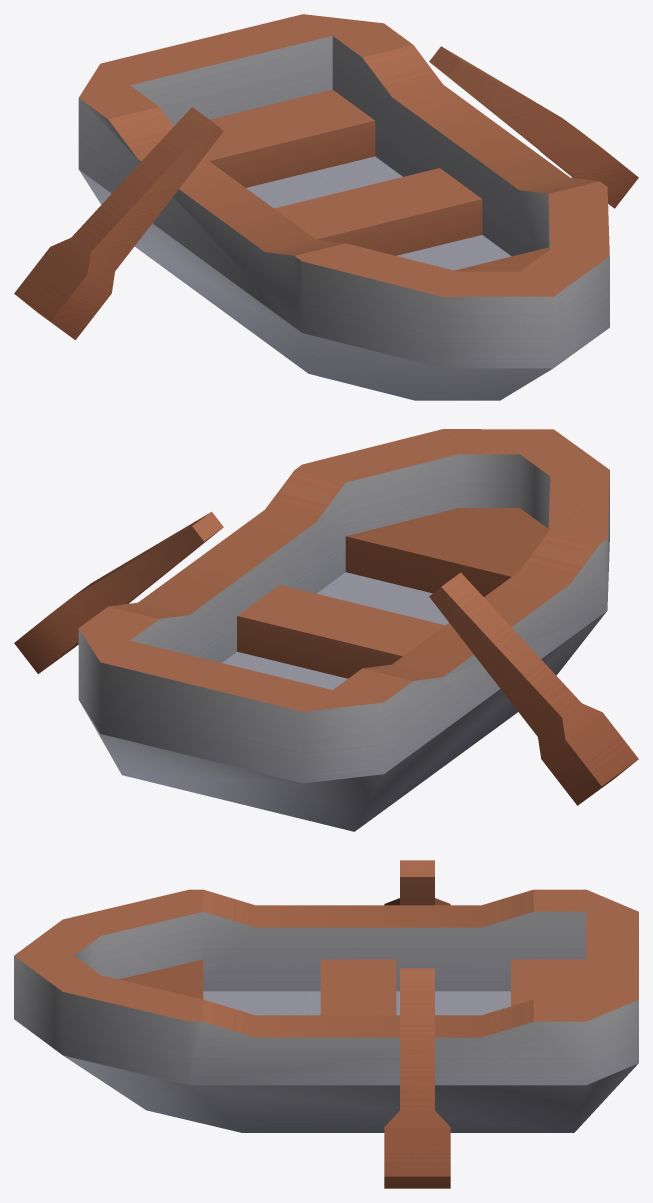
File: boat_row_large.glb
The picture shows the model from 3 angles, top to bottom: view 1: azimuth 30°, elevation 25°; view 2: azimuth 150°, elevation 25°; view 3: azimuth 270°, elevation 25°; orthographic projection. The views are drawn at different scales.
Visible parts, largest first — view 1: boat-row-large, paddles; view 2: boat-row-large, paddles; view 3: boat-row-large, paddles.
Boxes of the visible parts, <box> form: boat-row-large: <box>78,14,609,400</box>; paddles: <box>14,46,638,339</box>; boat-row-large: <box>78,429,609,831</box>; paddles: <box>14,512,638,805</box>; boat-row-large: <box>14,889,638,1132</box>; paddles: <box>384,860,450,1188</box>.
Bounding box in the file's own units: 2.75 × 0.8477 × 2.85.
1 material, 1 textured.
